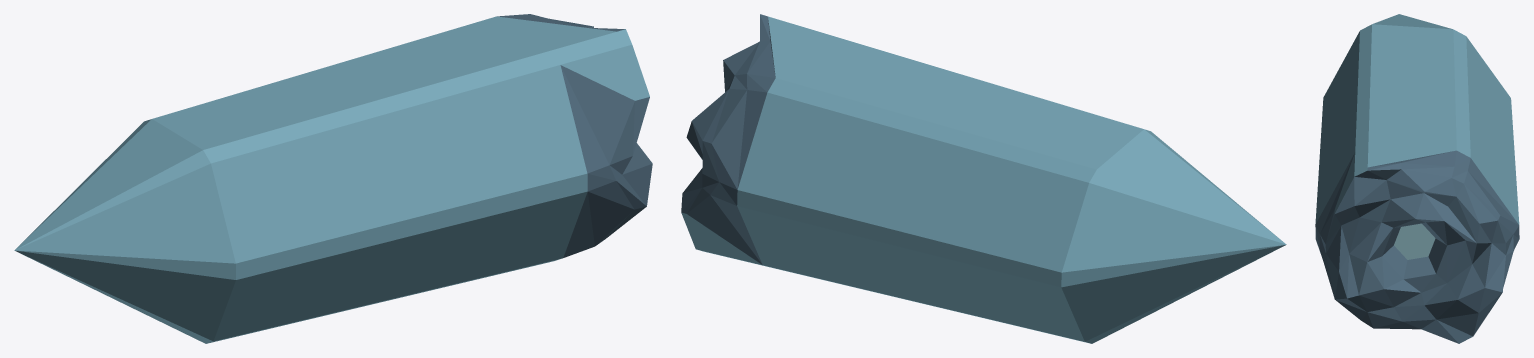
File: pf-crystal-shard-9e0a83.glb
3 renders of one model, left to right at view 1: azimuth 30°, elevation 25°; view 2: azimuth 150°, elevation 25°; view 3: azimuth 270°, elevation 25°, orthographic. The views are drawn at different scales.
Visible parts, largest first — view 1: crystal-shard-body; view 2: crystal-shard-body; view 3: crystal-shard-body.
Part boxes in pixels (box(x1,y1,x2,y2)): crystal-shard-body: box(14, 14, 652, 343); crystal-shard-body: box(681, 14, 1286, 343); crystal-shard-body: box(1315, 14, 1519, 343).
Bounding box in the file's own units: 0.3893 × 0.1337 × 0.1438.
